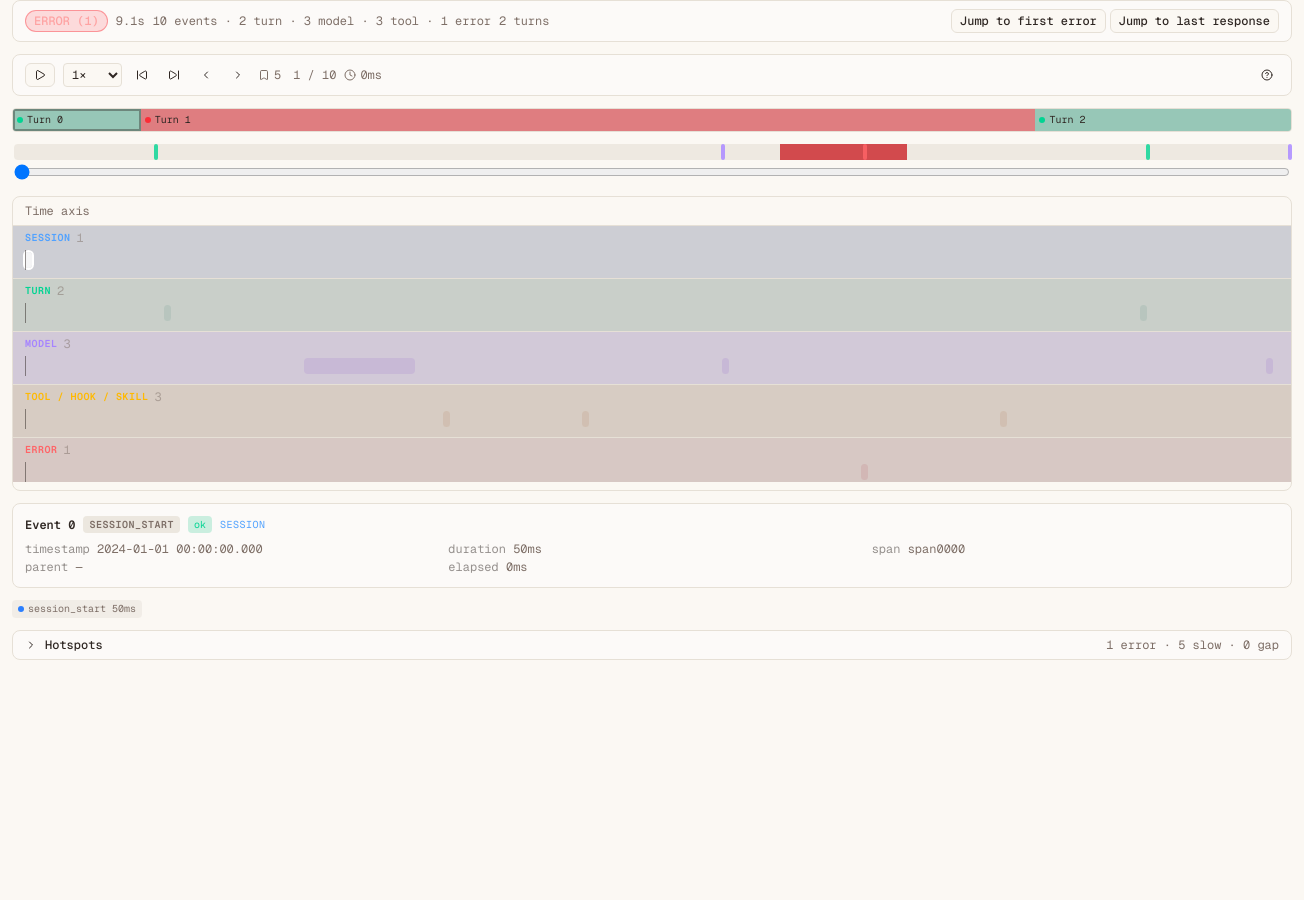
Test: Scrubber › changing scrubber value updates playhead index and event card
This screenshot has width=1304, height=900.
Set the slider with test id "scrubber" to "5": (722, 172) [14, 164, 1290, 180]
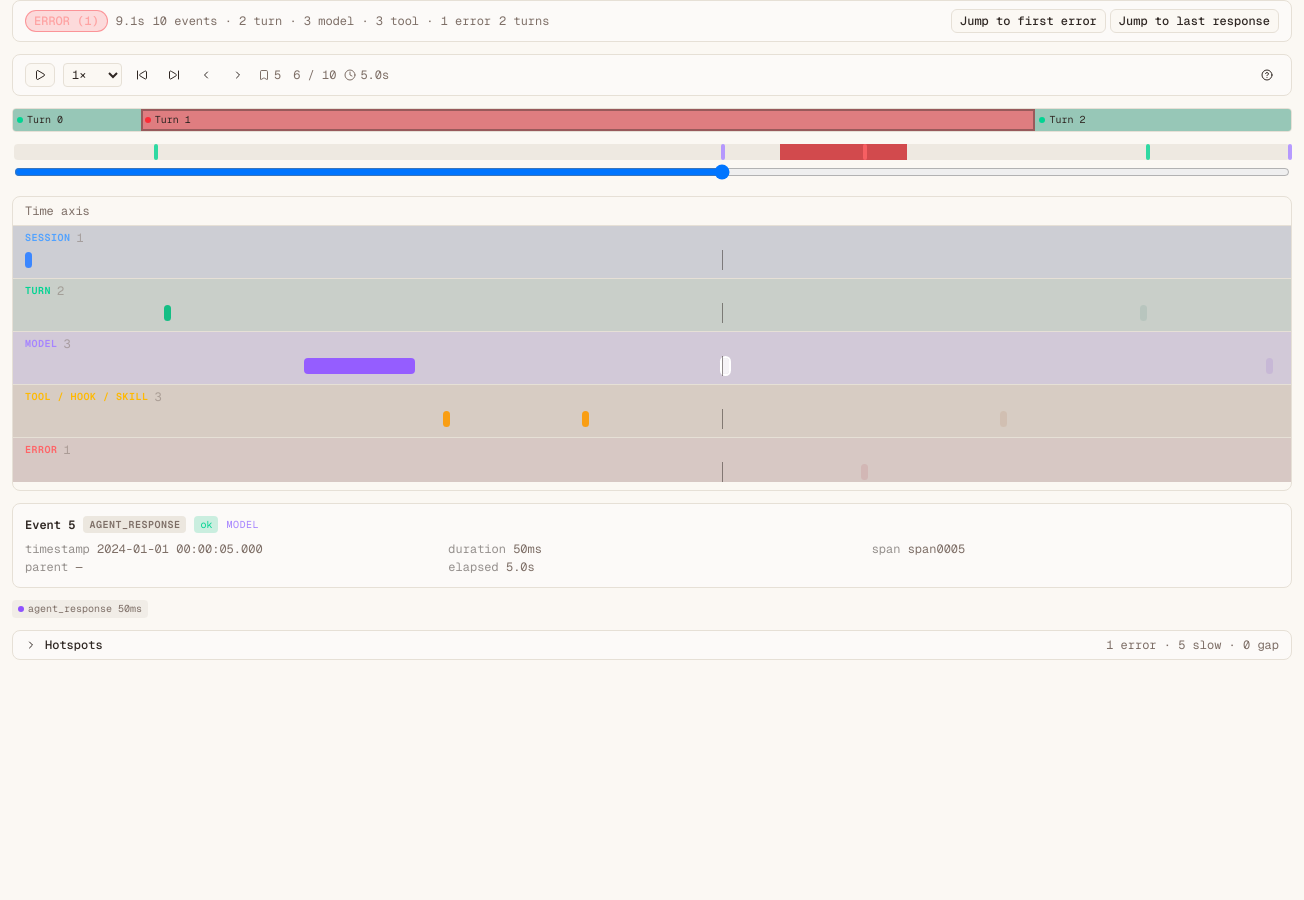
Check: the text "agent_response" is shown, box [83, 516, 186, 533]
